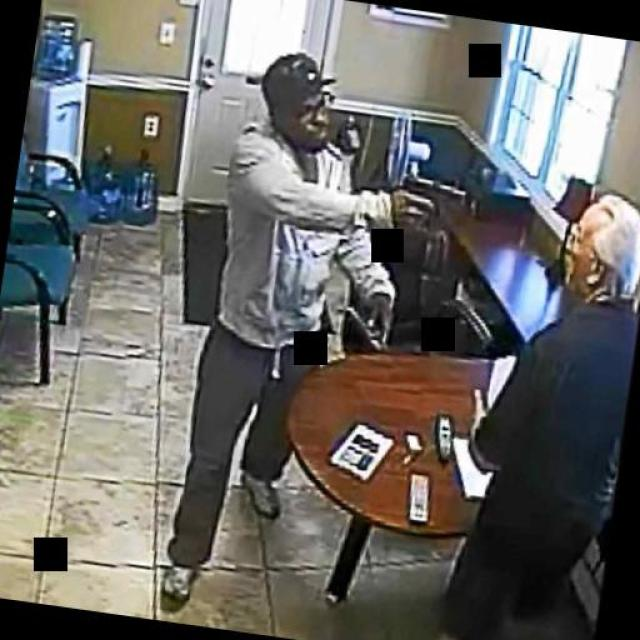gun: (397, 170, 468, 235)
